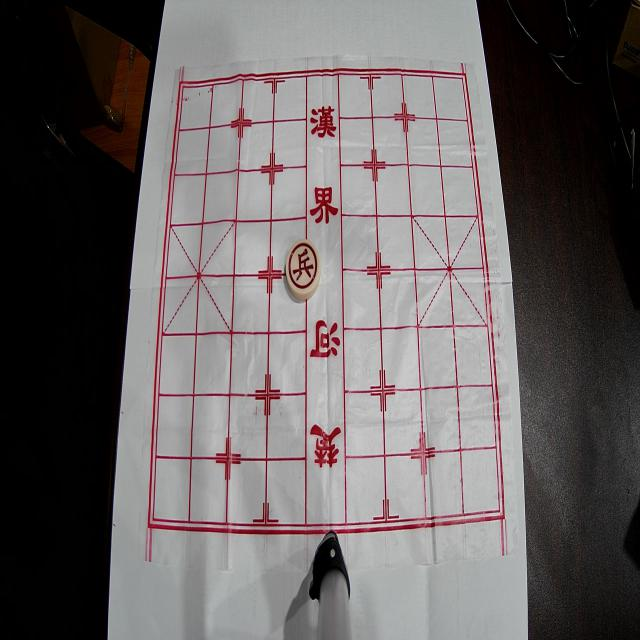red-soldier: (286, 239, 320, 300)
